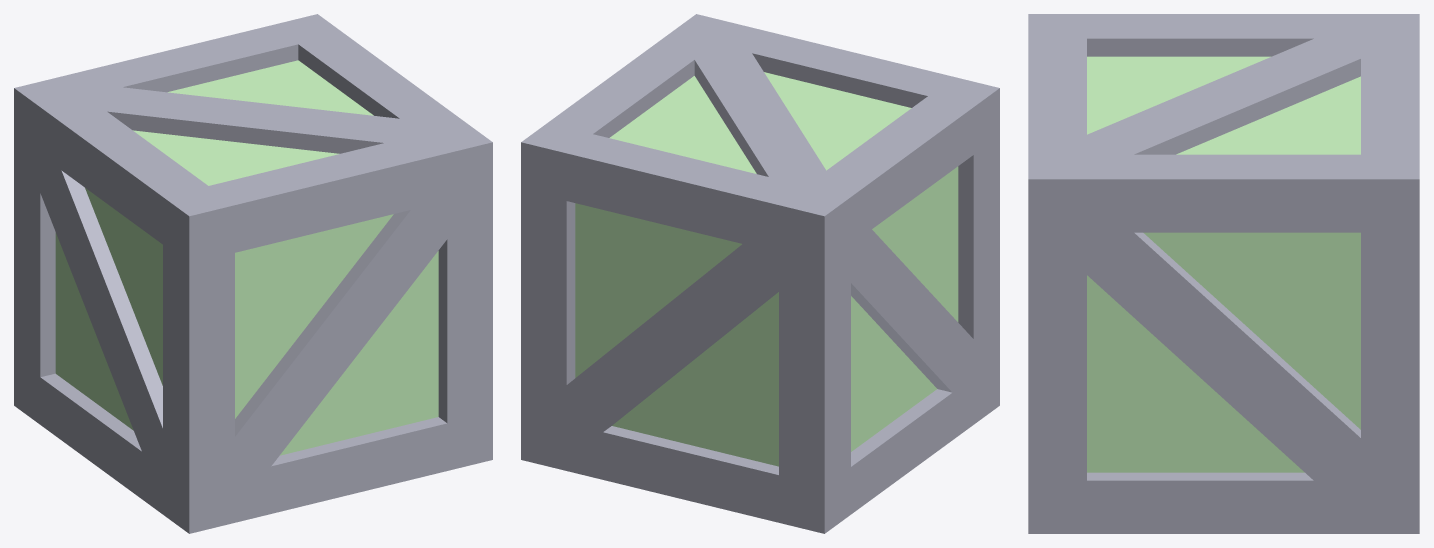
Rendered from cubeGreen.gltf.
3 views of the same model, side by side, from view 1: azimuth 30°, elevation 25°; view 2: azimuth 150°, elevation 25°; view 3: azimuth 270°, elevation 25° (orthographic). The views are drawn at different scales.
Parts seen in each view (by area): view 1: storageCube_exterior_geo.001, storageCube_interior_geo.001; view 2: storageCube_exterior_geo.001, storageCube_interior_geo.001; view 3: storageCube_exterior_geo.001, storageCube_interior_geo.001.
Boxes of the visible parts, <box> form: storageCube_exterior_geo.001: <box>14,14,492,533</box>; storageCube_interior_geo.001: <box>55,60,438,455</box>; storageCube_exterior_geo.001: <box>521,14,999,533</box>; storageCube_interior_geo.001: <box>575,72,958,466</box>; storageCube_exterior_geo.001: <box>1028,14,1419,533</box>; storageCube_interior_geo.001: <box>1087,56,1360,472</box>.
Size of the model in its own units: 2 by 2 by 2.
